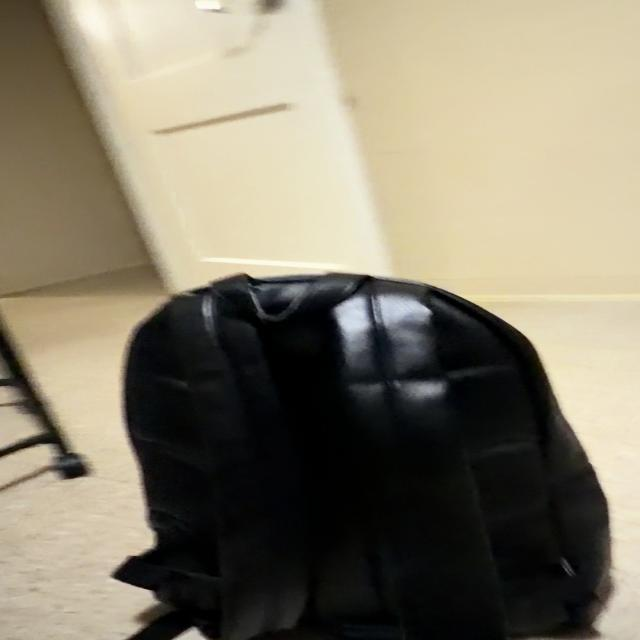backpack: (115, 274, 609, 640)
